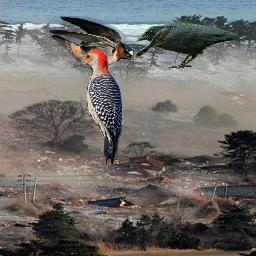Crow: (136, 22, 238, 70)
Cuckoo: (135, 25, 175, 56)
Swallow: (49, 16, 134, 80)
Woodpecker: (71, 48, 123, 164)
